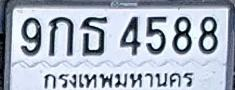4: (120, 16, 140, 55)
5: (146, 16, 166, 55)
8: (198, 16, 218, 54), (172, 16, 192, 54)
9: (20, 17, 42, 56)
A01: (48, 16, 74, 56)
A24: (80, 16, 108, 56)
BKK: (37, 70, 201, 90)
